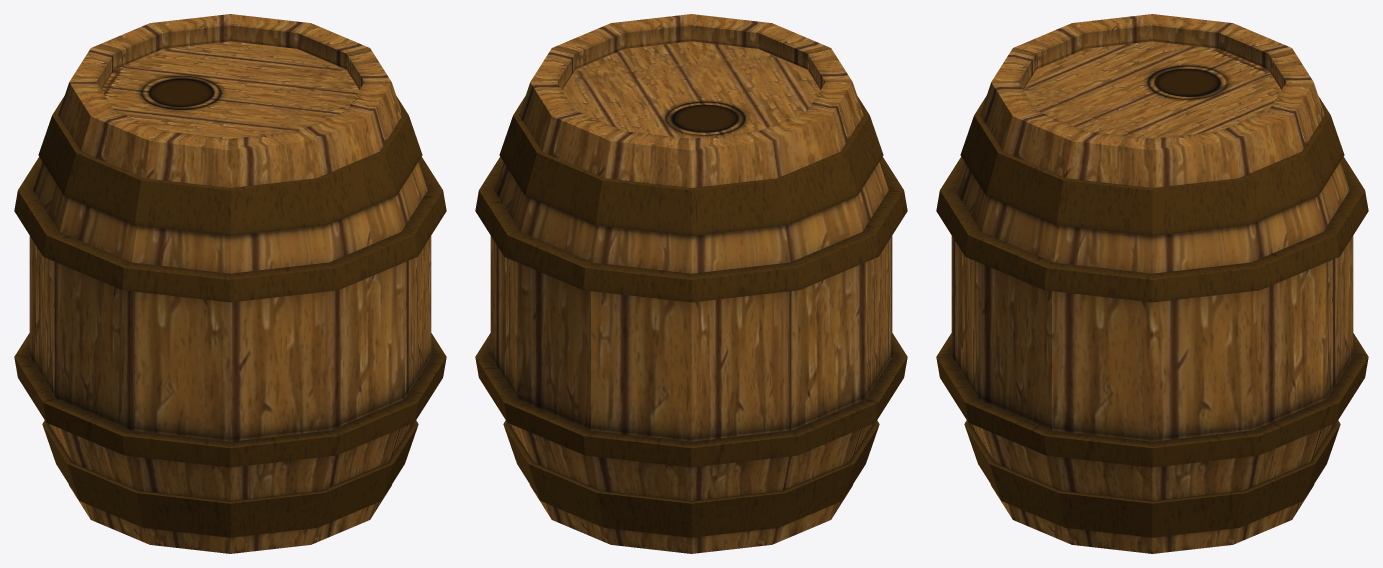
The model's file is barrel1.fbx.
3 views of the same model, side by side, from view 1: azimuth 30°, elevation 25°; view 2: azimuth 150°, elevation 25°; view 3: azimuth 270°, elevation 25° (orthographic).
Visible parts, largest first — view 1: Cylinder.001; view 2: Cylinder.001; view 3: Cylinder.001.
Boxes of the visible parts, x1,y1,x2,y2 form: Cylinder.001: (14,14,446,553); Cylinder.001: (475,14,907,553); Cylinder.001: (936,14,1368,553).
Bounding box in the file's own units: 268 × 276 × 268.
